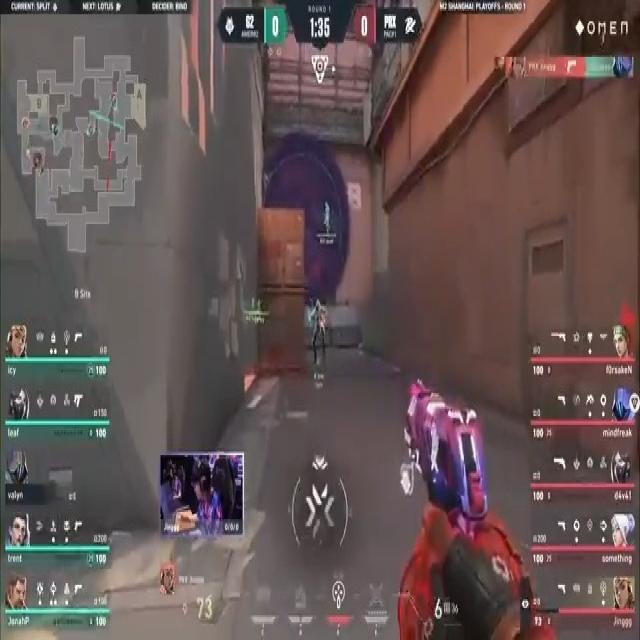ally: (309, 300, 328, 368)
ally behind wall: (323, 202, 331, 232)
